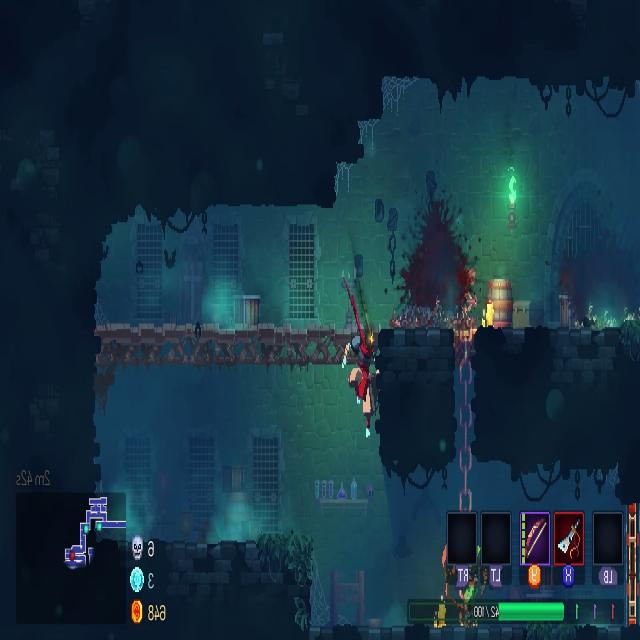agents: (339, 322, 383, 442)
door_regular: (626, 504, 638, 627)
wood_floor: (95, 319, 374, 368)
